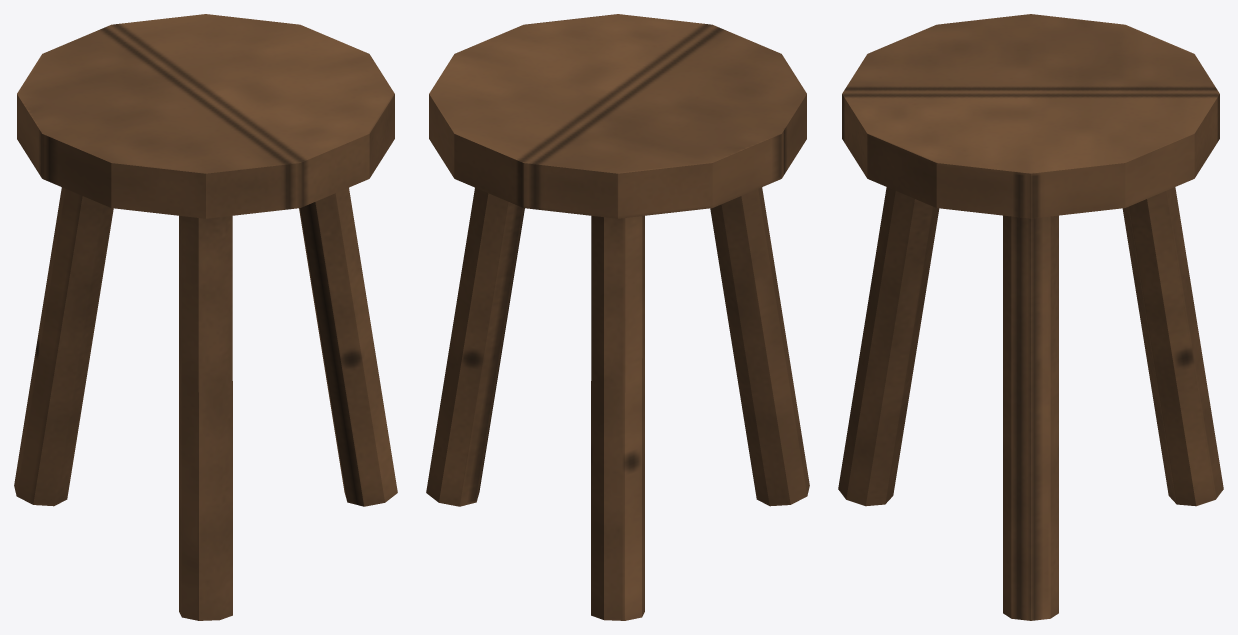
File: Prop_Stool.fbx
3 views of the same model, side by side, from view 1: azimuth 30°, elevation 25°; view 2: azimuth 150°, elevation 25°; view 3: azimuth 270°, elevation 25° (orthographic).
Visible parts, largest first — view 1: Prop_Stool; view 2: Prop_Stool; view 3: Prop_Stool.
Part boxes in pixels (<box>): Prop_Stool: <box>14,14,397,620</box>; Prop_Stool: <box>426,14,809,620</box>; Prop_Stool: <box>838,14,1223,620</box>.
Bounding box in the file's own units: 0.4095 × 0.4915 × 0.3879.
